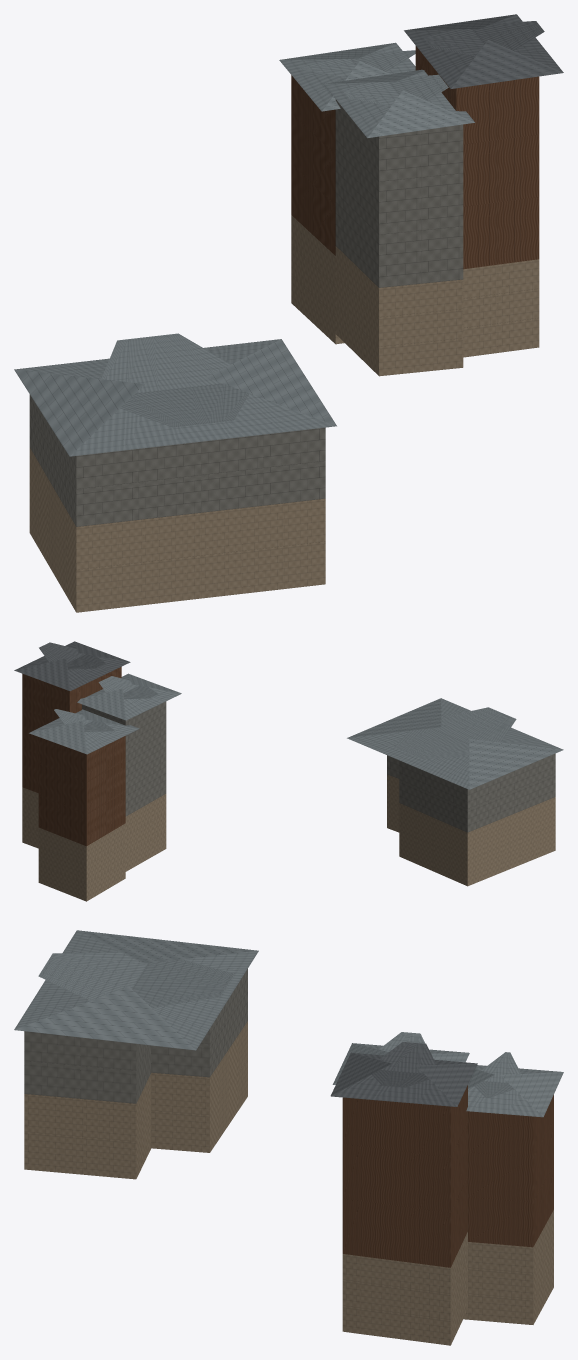
File: bld_c9_27_408.gltf
The picture shows the model from 3 angles, top to bottom: view 1: azimuth 30°, elevation 25°; view 2: azimuth 150°, elevation 25°; view 3: azimuth 270°, elevation 25°; orthographic projection. The views are drawn at different scales.
Parts seen in each view (by area): view 1: bld_c9_27_408; view 2: bld_c9_27_408; view 3: bld_c9_27_408.
Part boxes in pixels (box(x1,y1,x2,y2)): bld_c9_27_408: box(14, 14, 563, 612); bld_c9_27_408: box(14, 641, 563, 901); bld_c9_27_408: box(14, 930, 563, 1345).
Bounding box in the file's own units: 40.07 × 17.6 × 32.64.
Materials: 5 (5 with a texture image).
